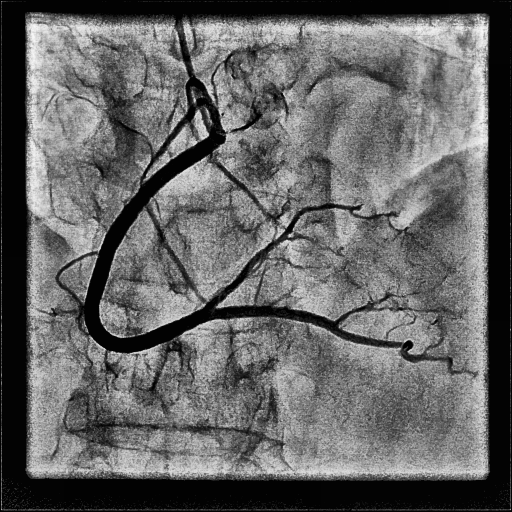pborca: (203, 204, 361, 308)
pda: (203, 305, 476, 375)
rca: (84, 137, 219, 353)
